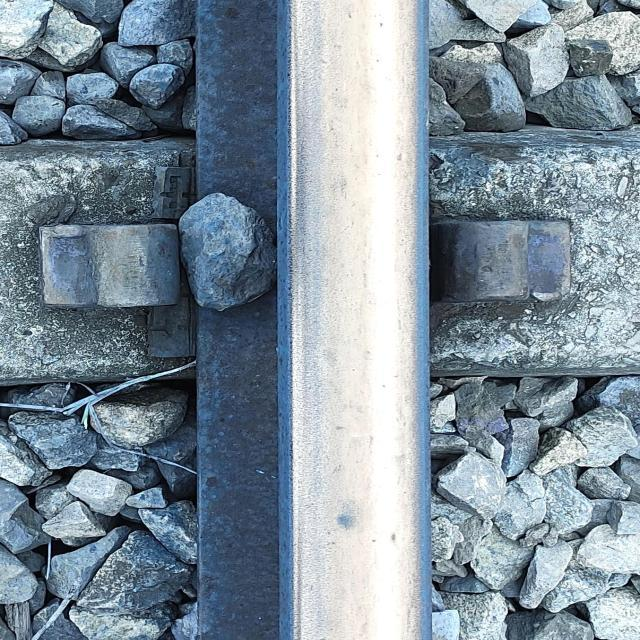Missing Fastener: (429, 157, 630, 427), (0, 194, 228, 362)
